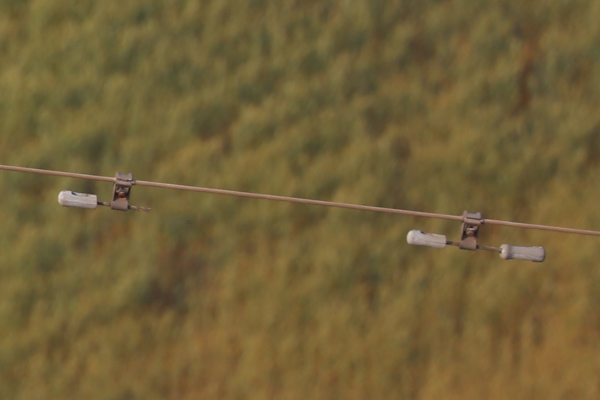damper: (401, 205, 548, 267)
damper_defect: (56, 166, 156, 216)
